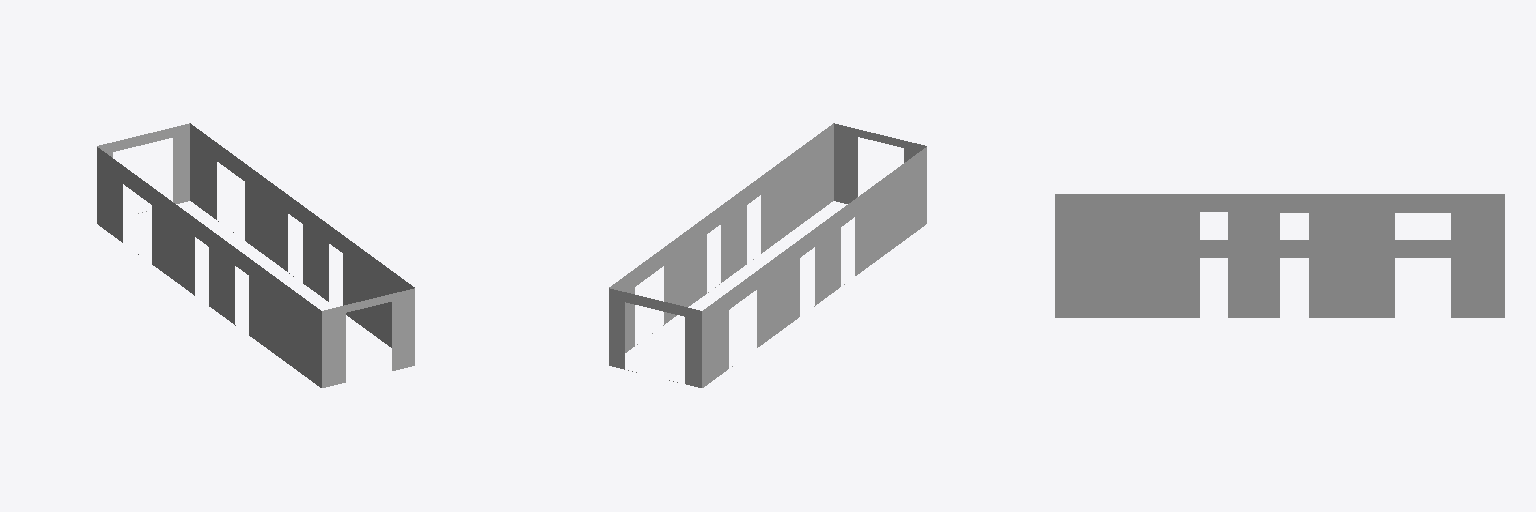
Rendered from pared_pasillo.obj.
3 renders of one model, left to right at view 1: azimuth 30°, elevation 25°; view 2: azimuth 150°, elevation 25°; view 3: azimuth 270°, elevation 25°, orthographic.
Parts seen in each view (by area): view 1: Paredes_pasillo Pasillo Escena_FInal; view 2: Paredes_pasillo Pasillo Escena_FInal; view 3: Paredes_pasillo Pasillo Escena_FInal.
Boxes of the visible parts, box(x1,y1,x2,y2) form: Paredes_pasillo Pasillo Escena_FInal: box(97, 123, 414, 387); Paredes_pasillo Pasillo Escena_FInal: box(609, 123, 926, 387); Paredes_pasillo Pasillo Escena_FInal: box(1055, 194, 1504, 317).
Bounding box in the file's own units: 8.78 × 6.95 × 36.49.